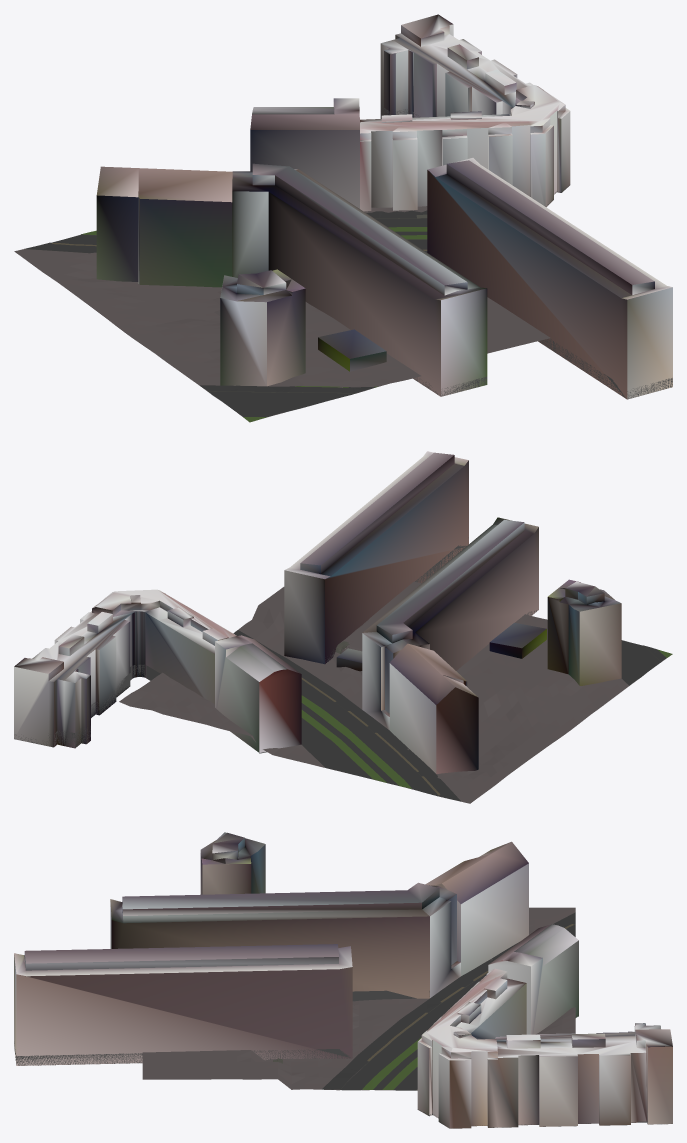
The picture shows the model from 3 angles, top to bottom: view 1: azimuth 30°, elevation 25°; view 2: azimuth 150°, elevation 25°; view 3: azimuth 270°, elevation 25°; orthographic projection. The views are drawn at different scales.
Parts seen in each view (by area): view 1: c_m01_m18; view 2: c_m01_m18; view 3: c_m01_m18.
Part boxes in pixels (x1=…): c_m01_m18: x1=14, y1=14, x2=672, y2=422; c_m01_m18: x1=14, y1=451, x2=672, y2=803; c_m01_m18: x1=14, y1=832, x2=672, y2=1128.
Size of the model in its own units: 153 by 34.15 by 195.
